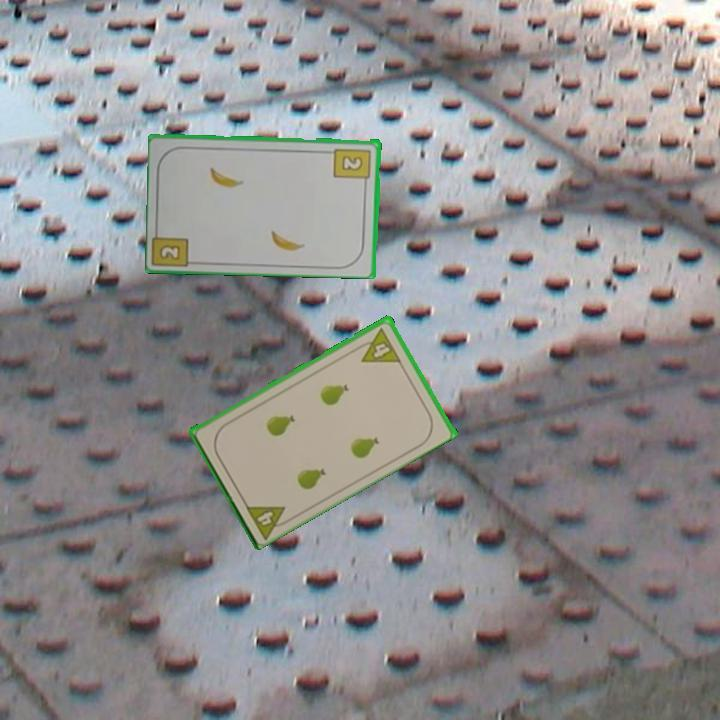2b: (331, 145, 374, 187), (156, 241, 183, 263)
4p: (242, 500, 295, 541), (352, 324, 403, 365)
